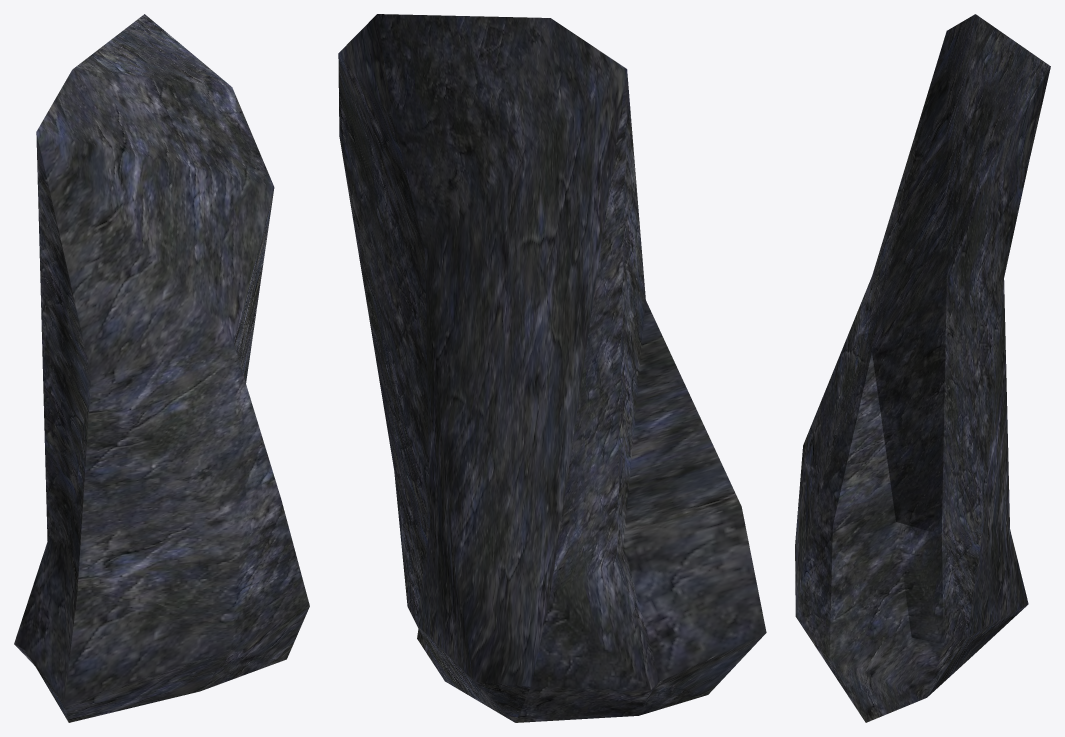
The model's file is pir_m_prp_vol_rock_a.fbx.
3 renders of one model, left to right at view 1: azimuth 30°, elevation 25°; view 2: azimuth 150°, elevation 25°; view 3: azimuth 270°, elevation 25°, orthographic. The views are drawn at different scales.
Visible parts, largest first — view 1: lod_high; view 2: lod_high; view 3: lod_high.
Part boxes in pixels (box(x1,y1,x2,y2)): lod_high: box(14, 14, 309, 722); lod_high: box(338, 14, 766, 722); lod_high: box(795, 14, 1050, 722).
Bounding box in the file's own units: 1352 × 2734 × 1007.
1 material, 1 textured.
